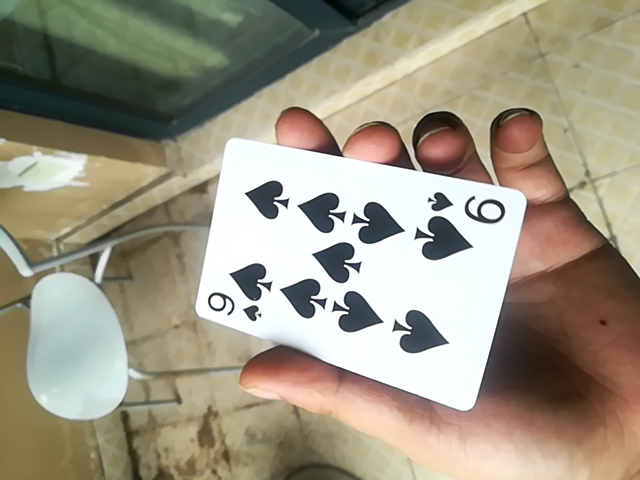ht 9: (189, 133, 529, 412)
